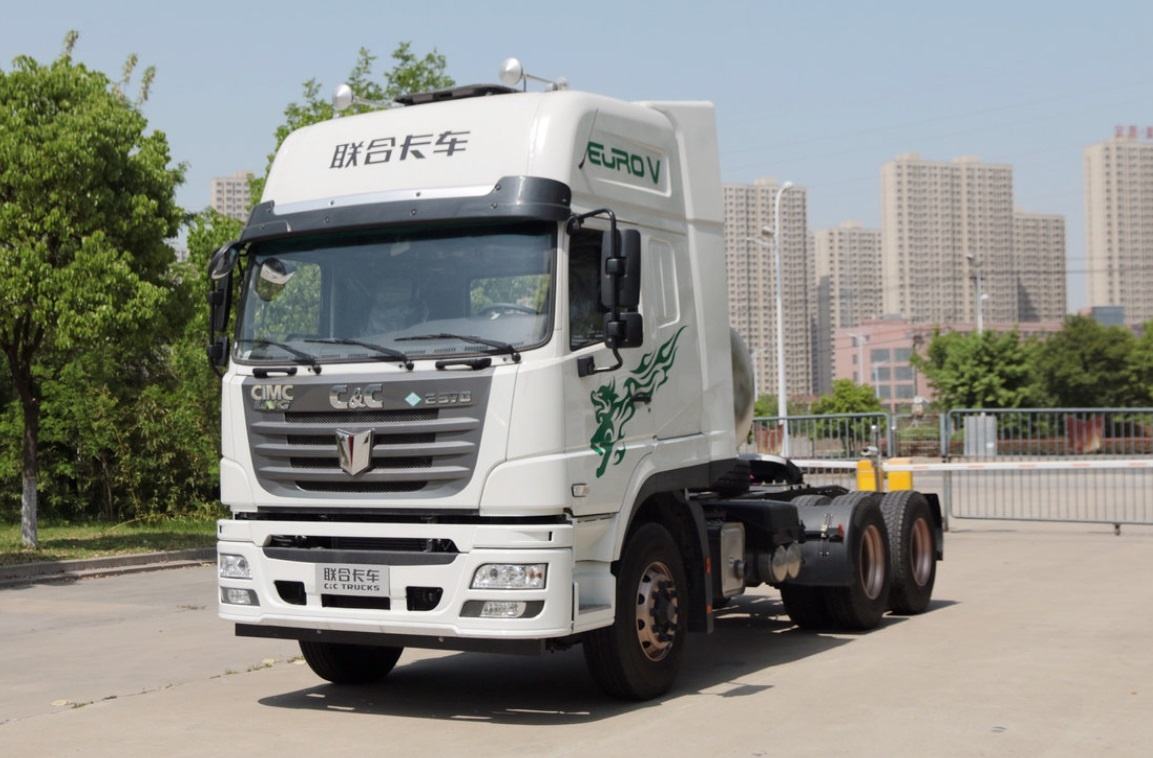heavy truck: (196, 69, 968, 688)
